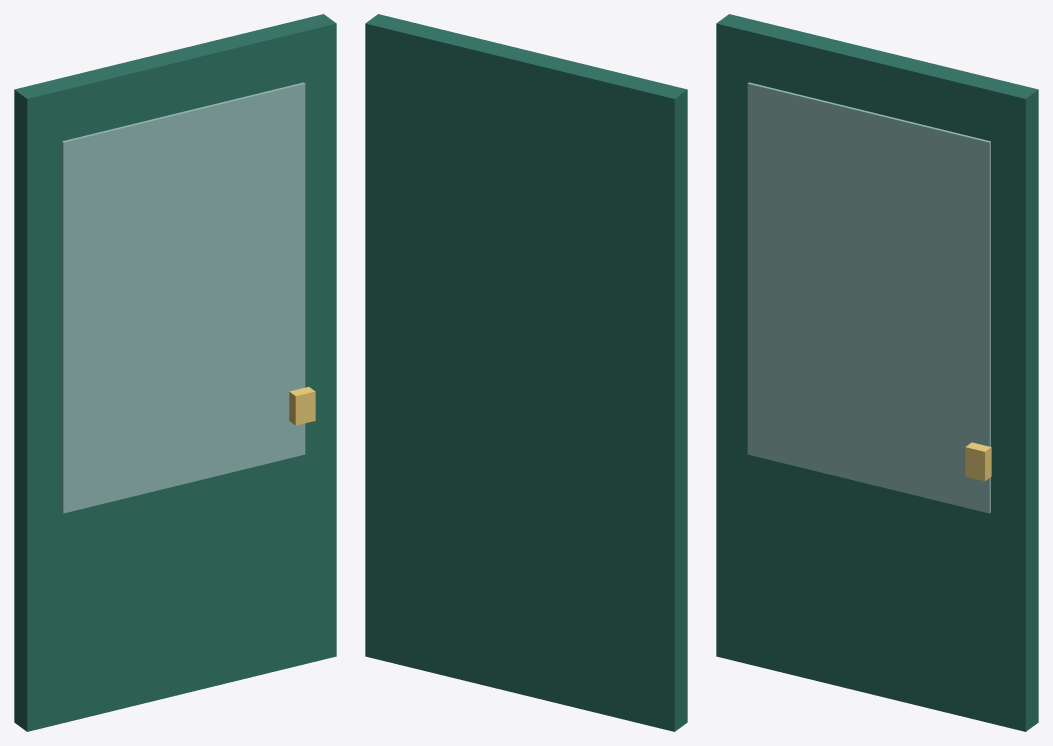
File: door.glb
3 views of the same model, side by side, from view 1: azimuth 30°, elevation 25°; view 2: azimuth 150°, elevation 25°; view 3: azimuth 330°, elevation 25° (orthographic).
Parts seen in each view (by area): view 1: door; view 2: door; view 3: door.
Boxes of the visible parts, box(x1,y1,x2,y2) form: door: box(14, 14, 336, 731); door: box(365, 14, 687, 731); door: box(716, 14, 1038, 731).
Size of the model in its own units: 1.1 by 2.15 by 0.14.
1 material, 1 textured.
